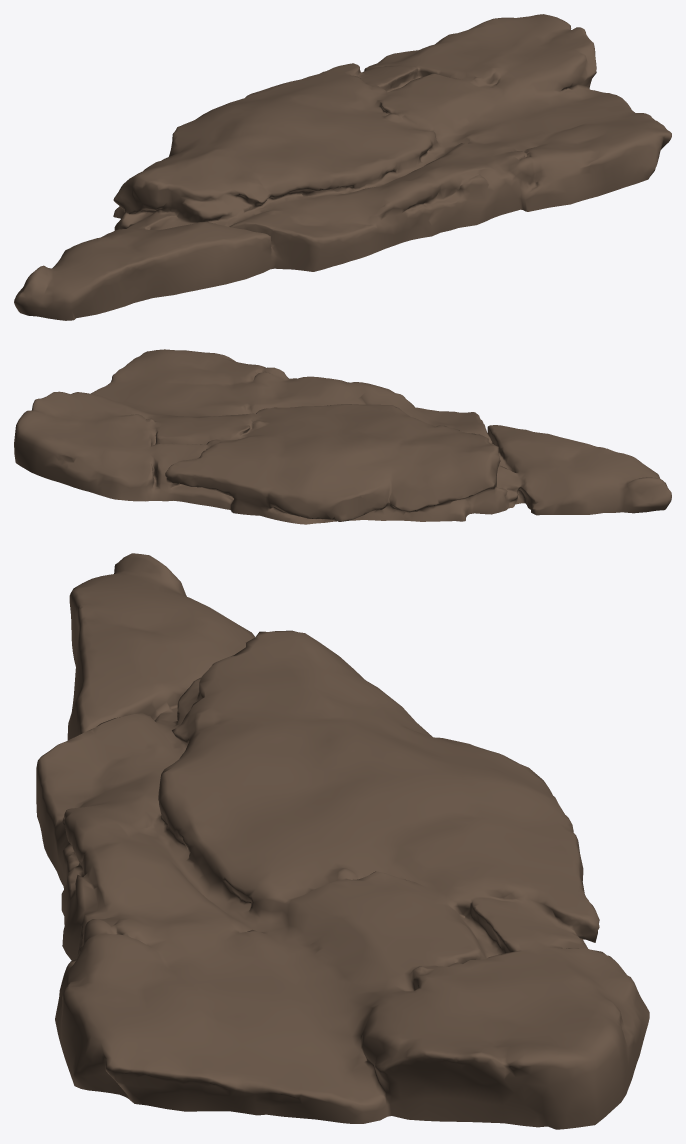
The model's file is Rocck-pixel.glb.
The picture shows the model from 3 angles, top to bottom: view 1: azimuth 30°, elevation 25°; view 2: azimuth 150°, elevation 25°; view 3: azimuth 270°, elevation 25°; orthographic projection. The views are drawn at different scales.
Parts seen in each view (by area): view 1: Aset_nature_rock_L_wjssaf3_00_LOD0; view 2: Aset_nature_rock_L_wjssaf3_00_LOD0; view 3: Aset_nature_rock_L_wjssaf3_00_LOD0.
Boxes of the visible parts, x1=… form: Aset_nature_rock_L_wjssaf3_00_LOD0: x1=14, y1=14, x2=671, y2=320; Aset_nature_rock_L_wjssaf3_00_LOD0: x1=14, y1=349, x2=671, y2=524; Aset_nature_rock_L_wjssaf3_00_LOD0: x1=36, y1=553, x2=649, y2=1129.
Size of the model in its own units: 6.6 by 0.601 by 3.18.
1 material, 1 textured.
